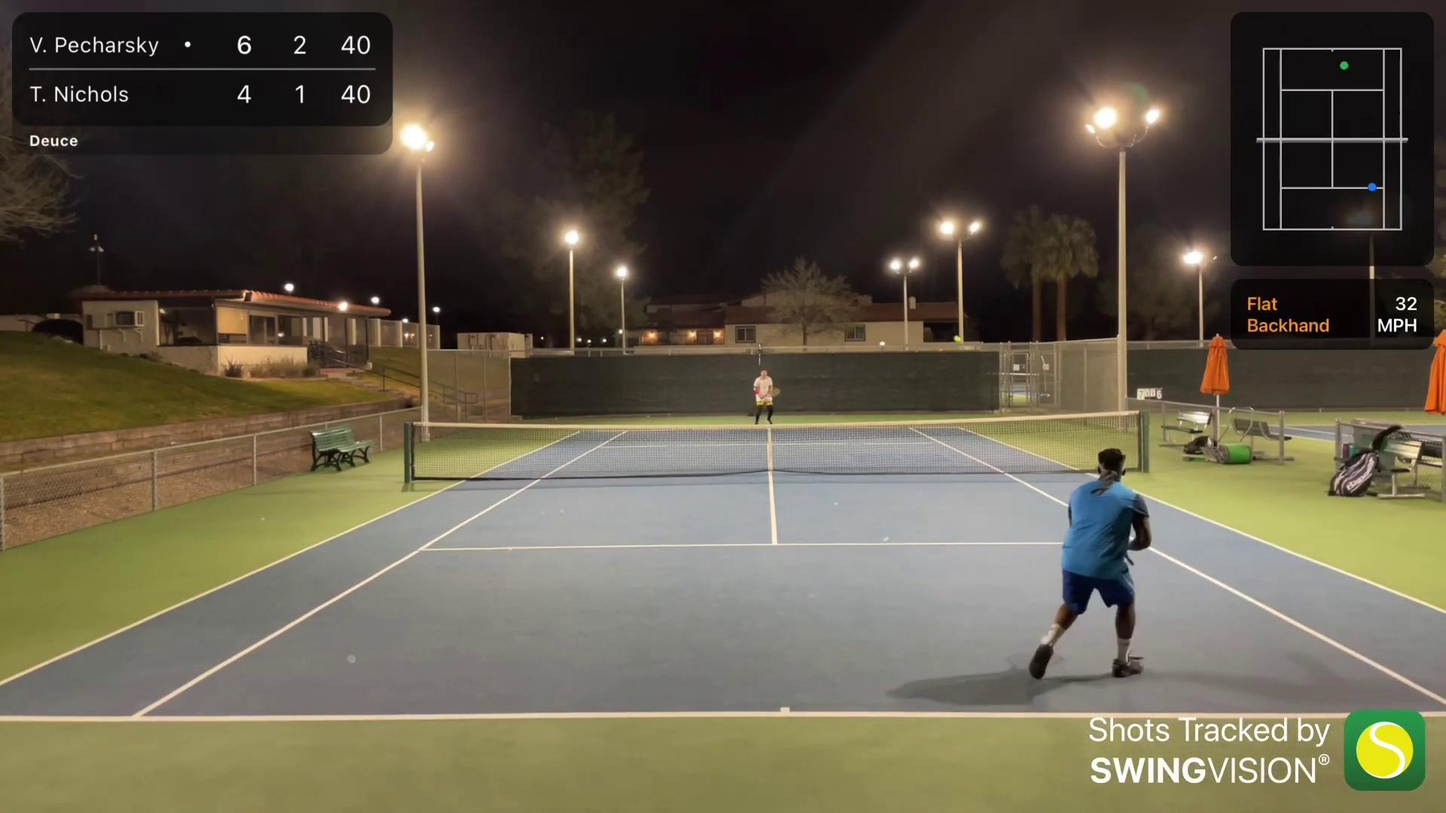ball: (955, 338, 961, 344)
